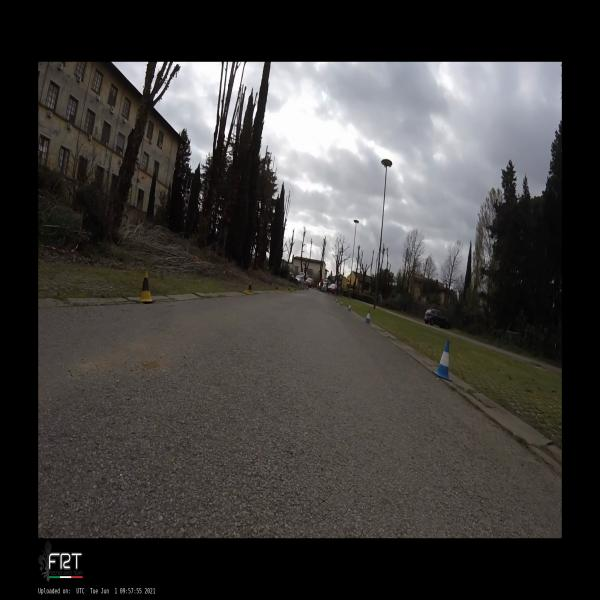blue_cone: (432, 340, 453, 382), (364, 309, 371, 324), (347, 303, 351, 312), (340, 300, 343, 305)
yellow_cone: (136, 268, 156, 301), (246, 282, 253, 294), (274, 284, 279, 293), (288, 286, 290, 292)
